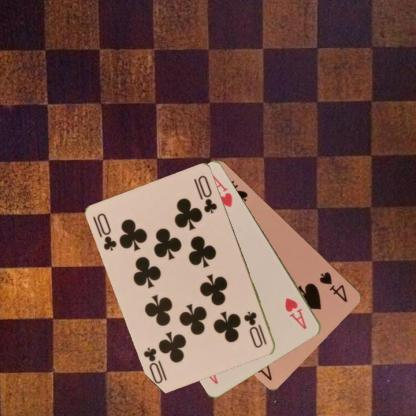10c: (242, 308, 269, 350), (95, 210, 118, 252)
4s: (316, 269, 350, 304)
Ah: (282, 295, 308, 331)
